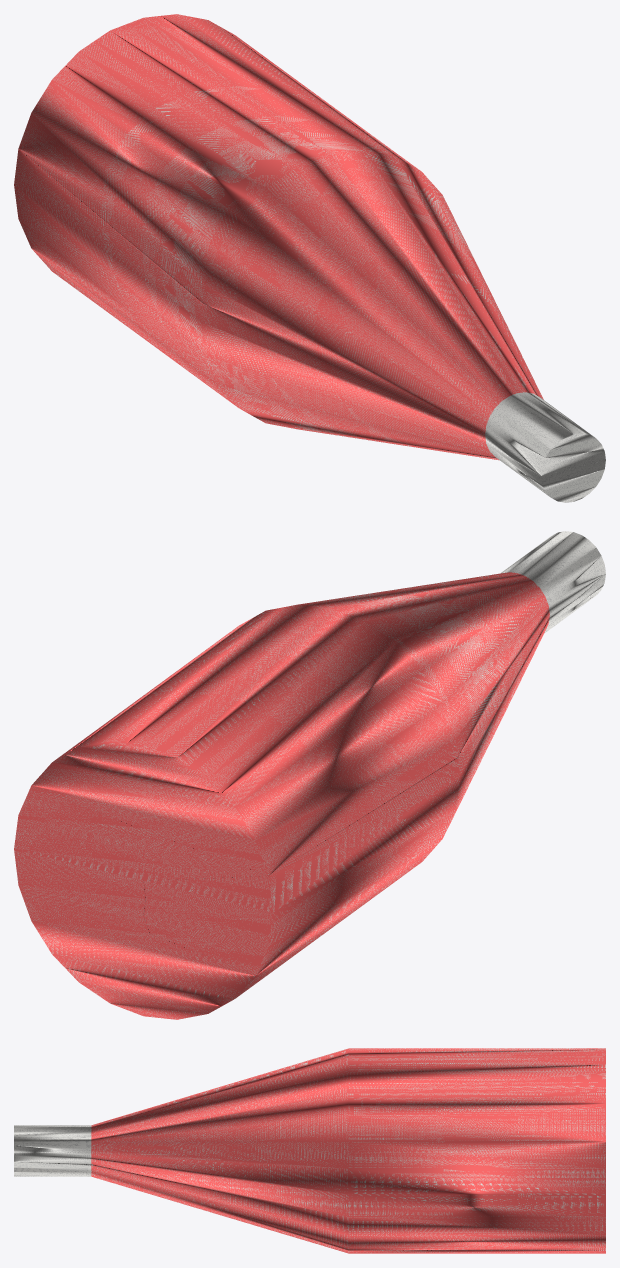
The model's file is model_align.obj.
The picture shows the model from 3 angles, top to bottom: view 1: azimuth 30°, elevation 25°; view 2: azimuth 150°, elevation 25°; view 3: azimuth 270°, elevation 25°; orthographic projection. The views are drawn at different scales.
Bounding box in the file's own units: 0.0734 × 0.0734 × 0.2111.
